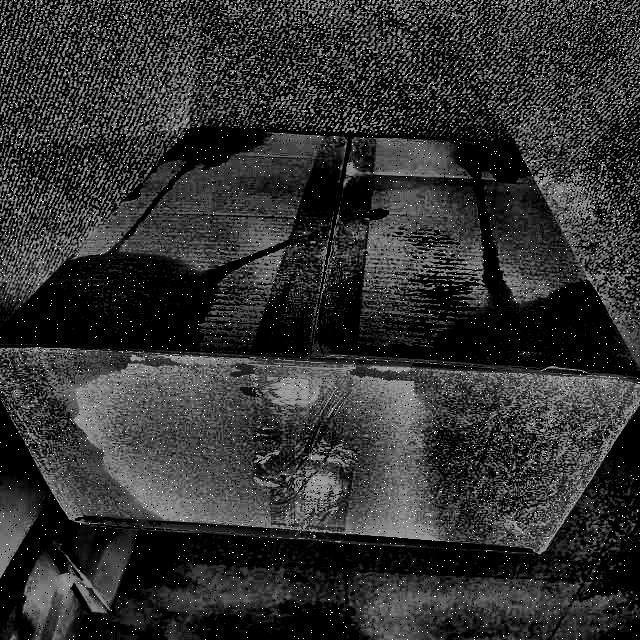box: (0, 108, 633, 559)
wet: (406, 304, 640, 561), (0, 344, 175, 537), (0, 250, 203, 355), (145, 115, 263, 183), (433, 136, 532, 198)
